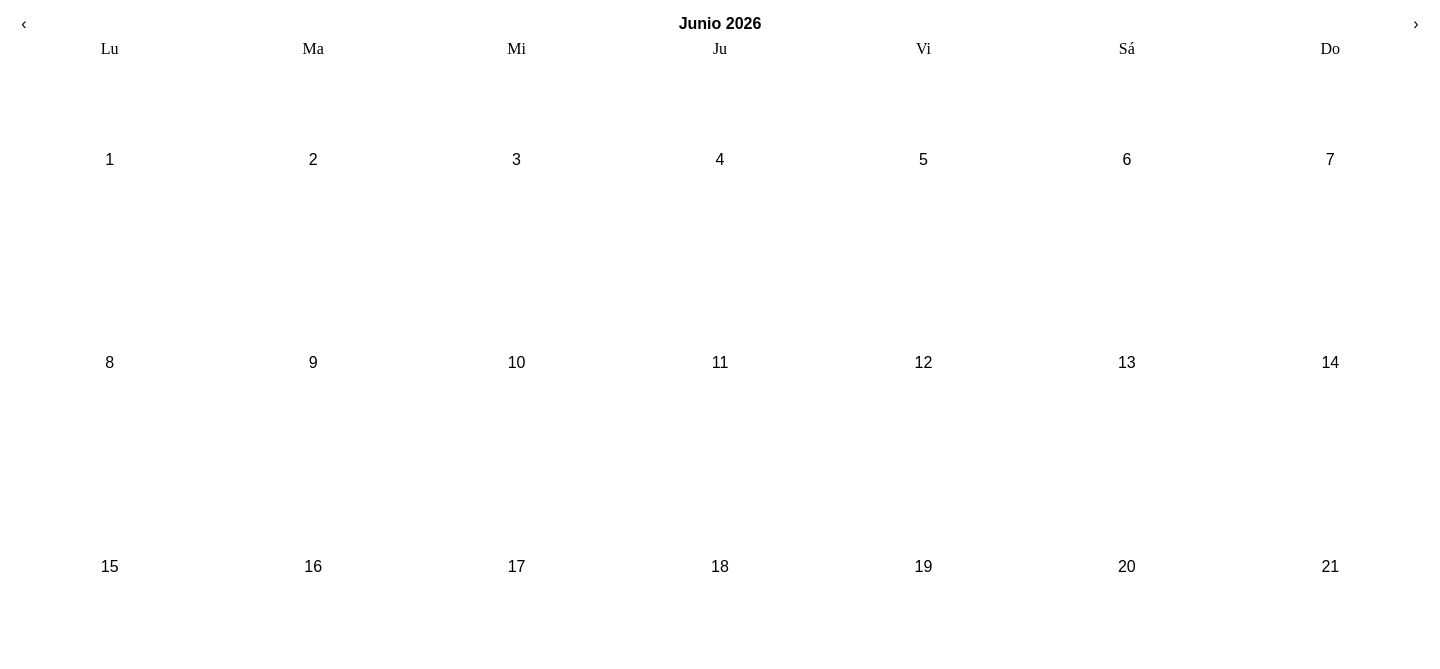
Test: BipCalendarGrid › navega al mes siguiente con el botón "Mes siguiente"
Click the button named "Mes siguiente": (1416, 24) [1400,8,1432,40]
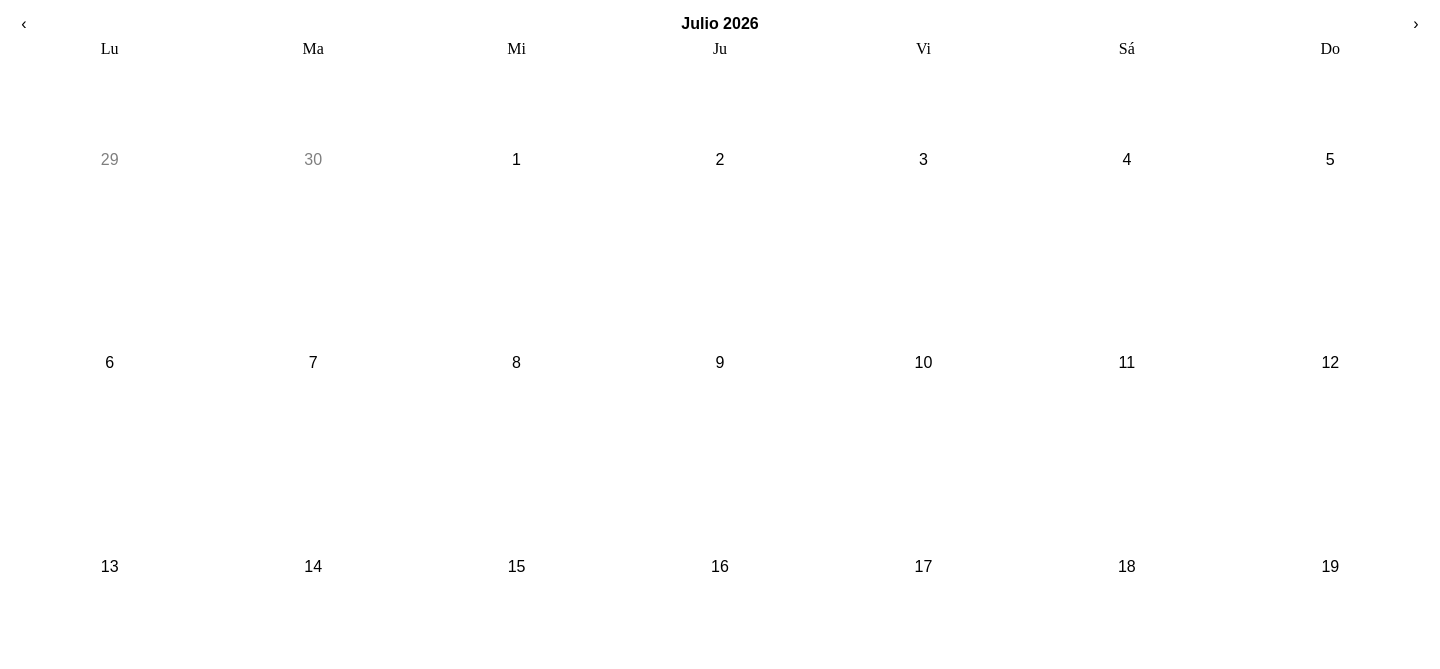
Expected: the button "Julio 2026" is shown, [681,15,759,33]
